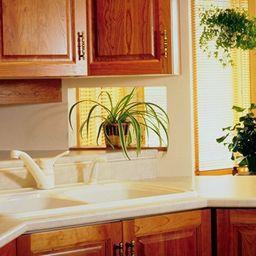Lavaplatos: (6, 148, 196, 234)
